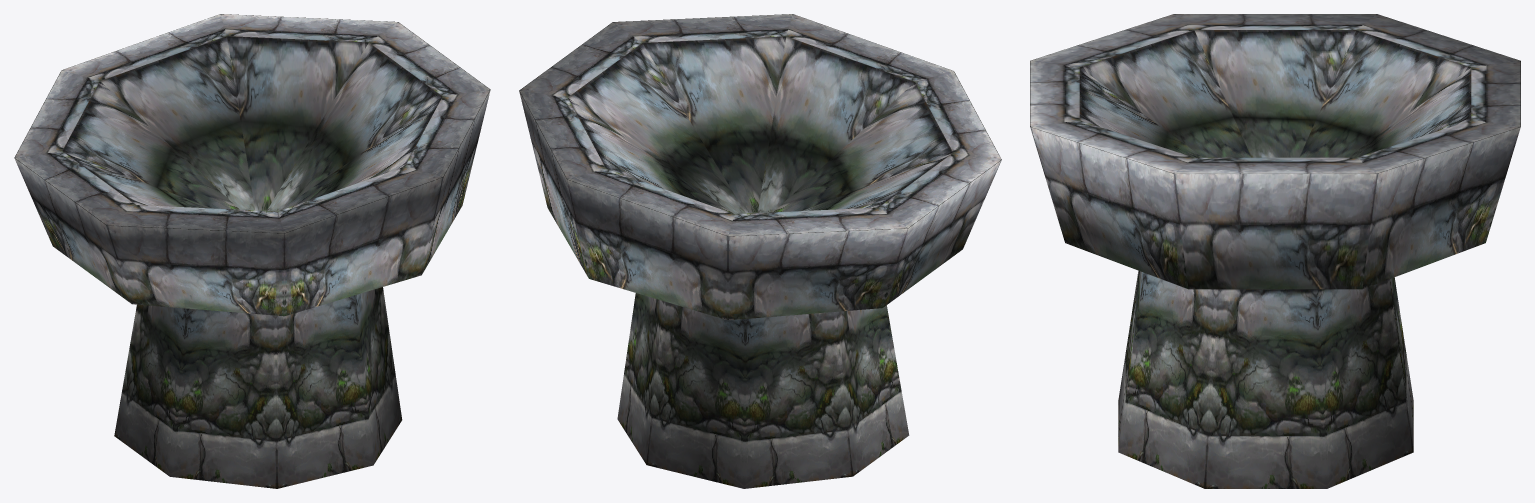
File: tirisfallfountain.obj
3 renders of one model, left to right at view 1: azimuth 30°, elevation 25°; view 2: azimuth 150°, elevation 25°; view 3: azimuth 270°, elevation 25°, orthographic. The views are drawn at different scales.
Visible parts, largest first — view 1: TIRISFALLFOUNTAIN0; view 2: TIRISFALLFOUNTAIN0; view 3: TIRISFALLFOUNTAIN0.
Part boxes in pixels (bbox=[...]): TIRISFALLFOUNTAIN0: bbox=[14, 14, 490, 488]; TIRISFALLFOUNTAIN0: bbox=[519, 14, 1001, 488]; TIRISFALLFOUNTAIN0: bbox=[1030, 14, 1520, 488].
Size of the model in its own units: 3.01 by 2.42 by 3.03.
1 material, 1 textured.
